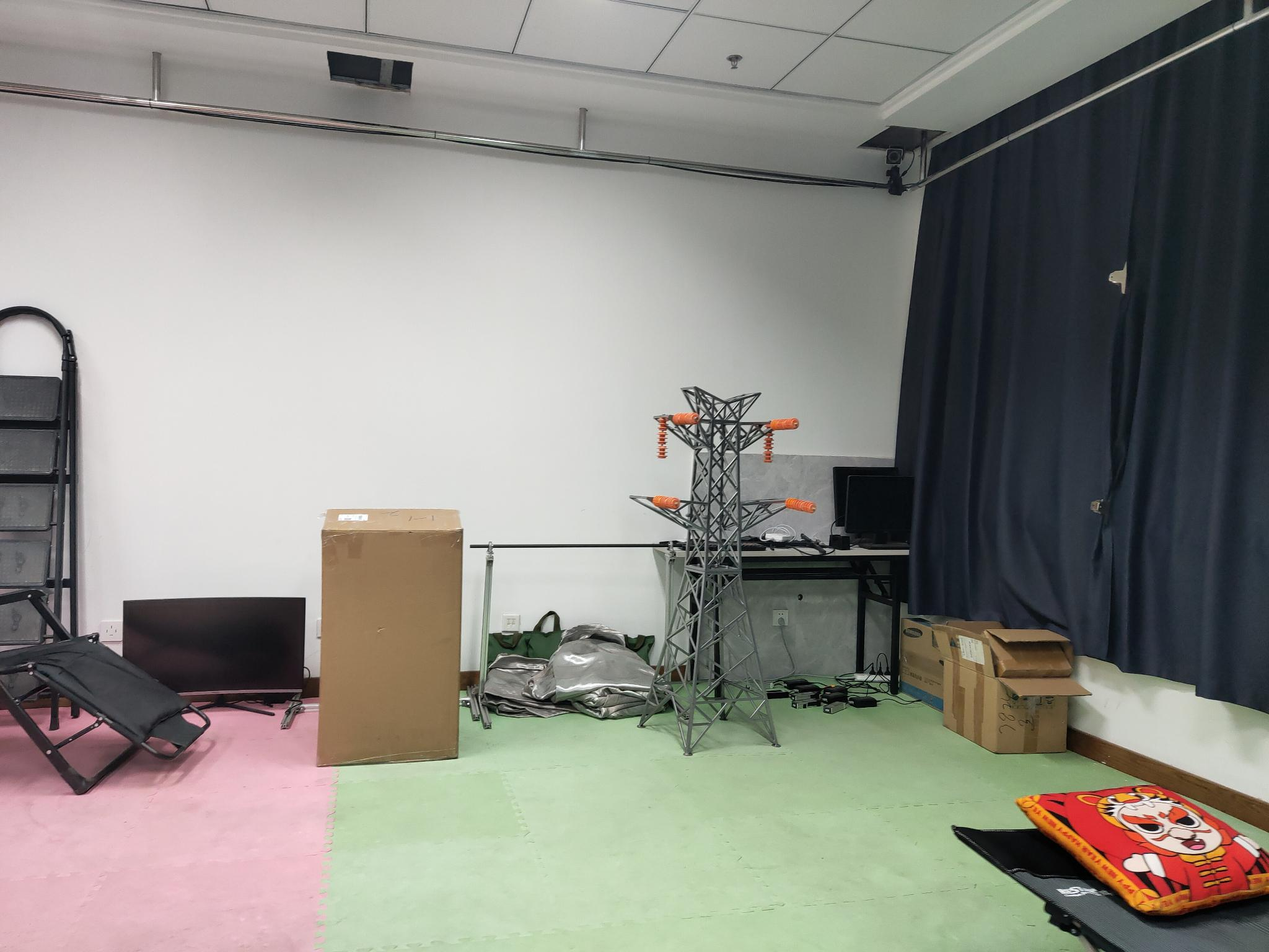tower: (630, 386, 785, 754)
